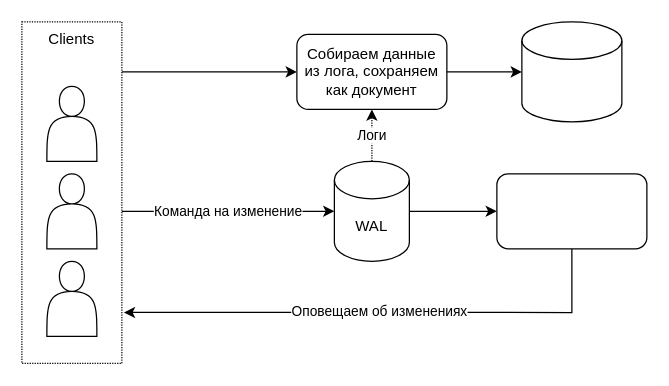
This 669x386 diagram has some shape labels left out. The shapes that lost their labels are listed below. From the top down, each one's centre as x and y in pixels, then its label:
At pixel 571 71: "Document".
At pixel 571 210: "Delay, Order, Refine".
